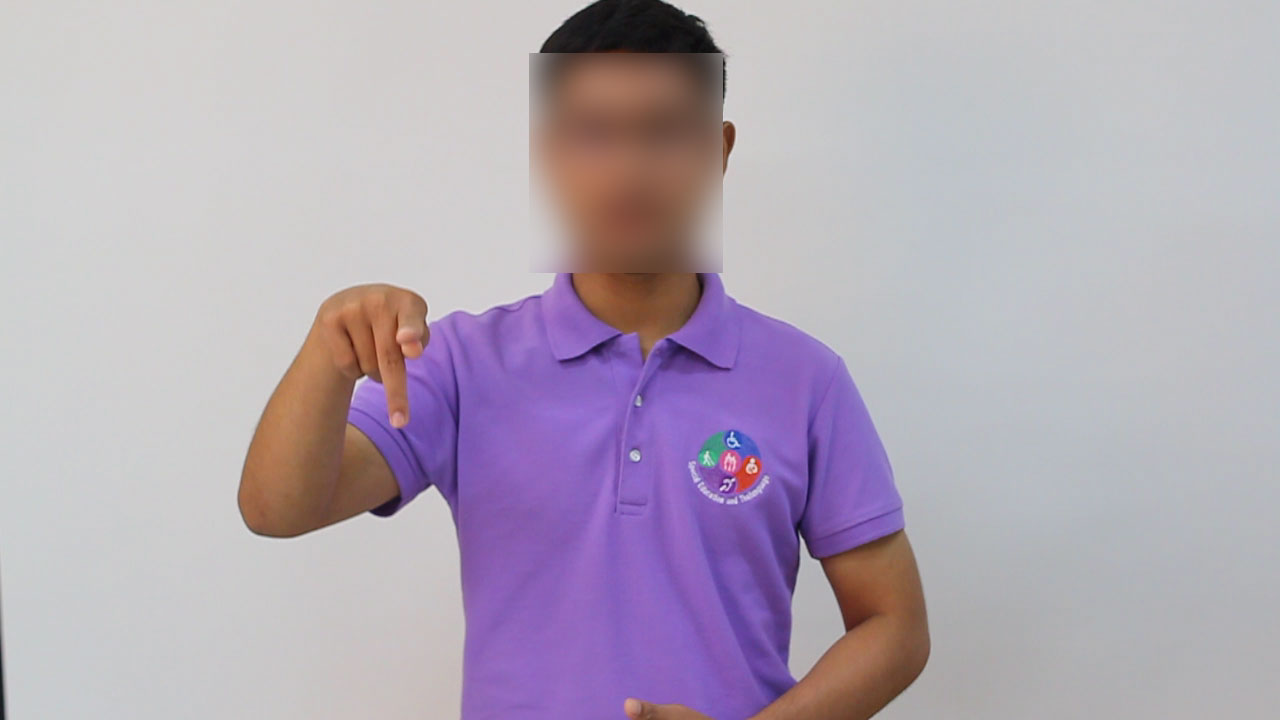por: (302, 270, 447, 445)
